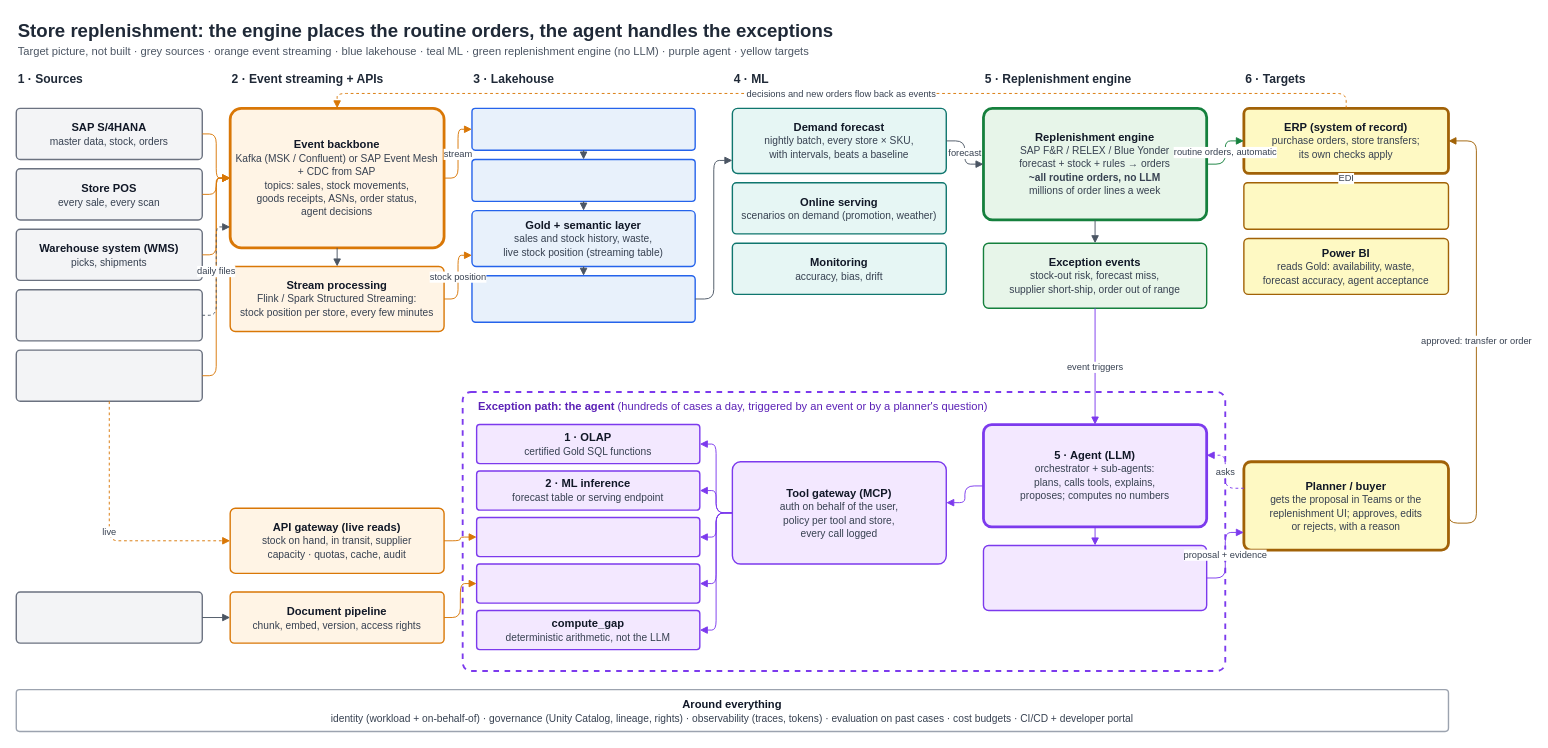
Some shapes in this 1548 by 748 pixel diagram are drawn without their labels. The shapes that lost their labels are listed below. From the top down, each one's box as (x1, y1, x2, y2) in pixels, then its label:
(471, 107, 695, 150): Bronze events landed as they arrive
(471, 158, 695, 202): Silver cleaned, deduplicated, conformed
(1243, 182, 1449, 230): Suppliers orders by EDI
(15, 289, 203, 341): External weather, holidays, local events
(471, 275, 695, 323): Feature tables offline for training, online for serving
(15, 349, 203, 402): Suppliers (EDI) confirmations, ASNs
(476, 516, 700, 557): 3 · Live API via the API gateway, with as_of
(476, 563, 700, 603): 4 · RAG rules and contracts, with citations
(982, 544, 1207, 611): Guardrails figure check, injection filter, proposal as a structured object
(15, 591, 203, 643): Documents replenishment policy, supplier contracts
